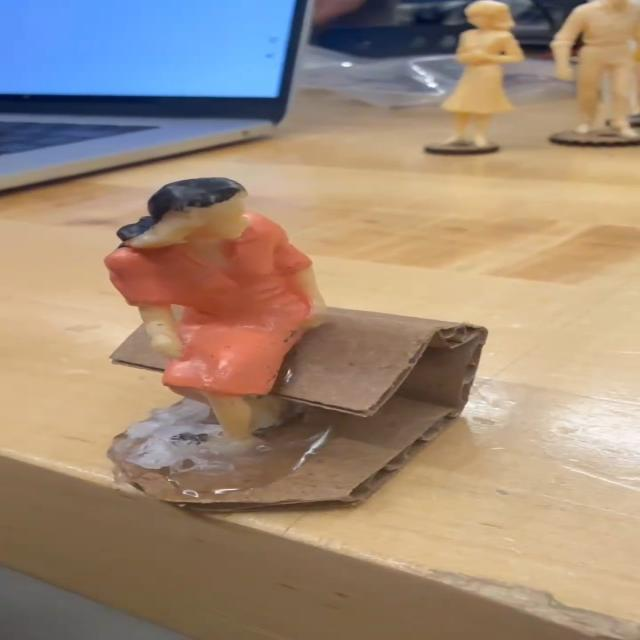Authorized: (64, 155, 331, 451)
